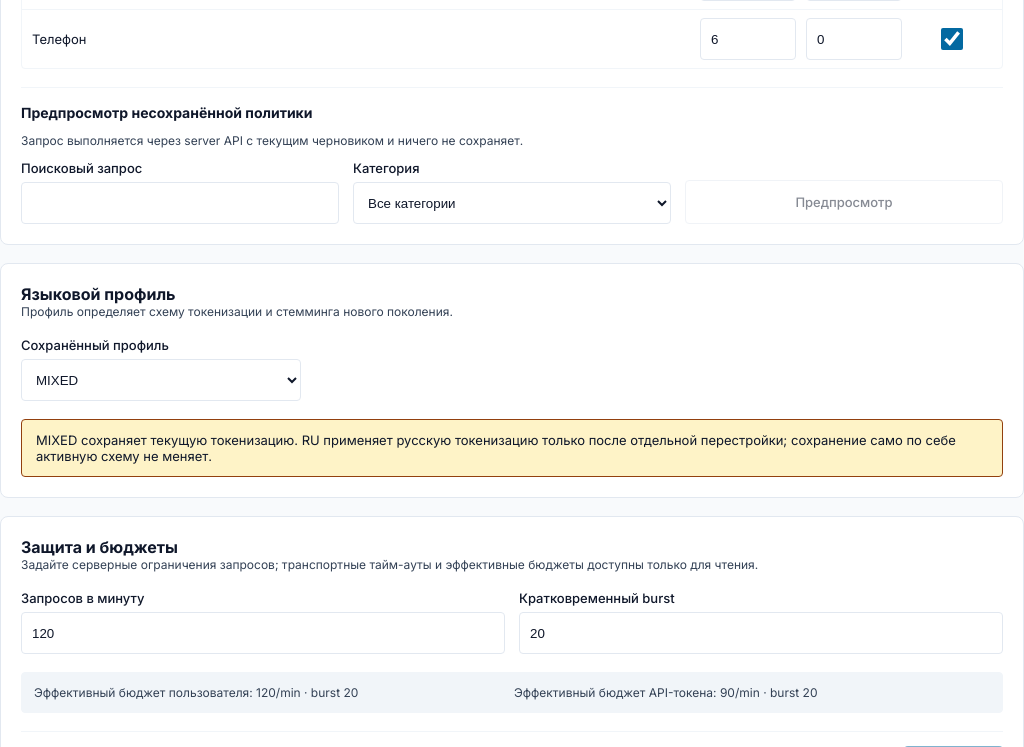
Test: SearchSettingsComponent › uses a successful save as the clean baseline while marking a schema change as rebuild-required
The image size is (1024, 747).
(page scrolled)
Select "RU" in the dropdown with id "search-schema-profile": x=161, y=380 [21, 359, 301, 401]
(page scrolled)
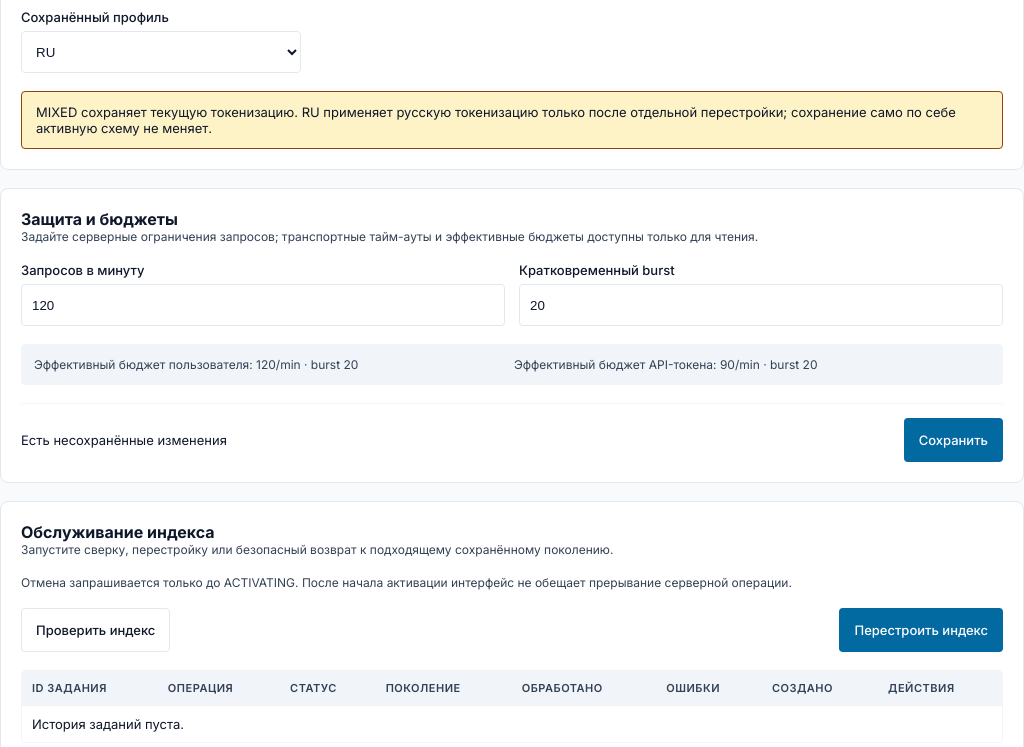
Click the button "Сохранить": x=953, y=440 [904, 418, 1003, 462]
(page scrolled)
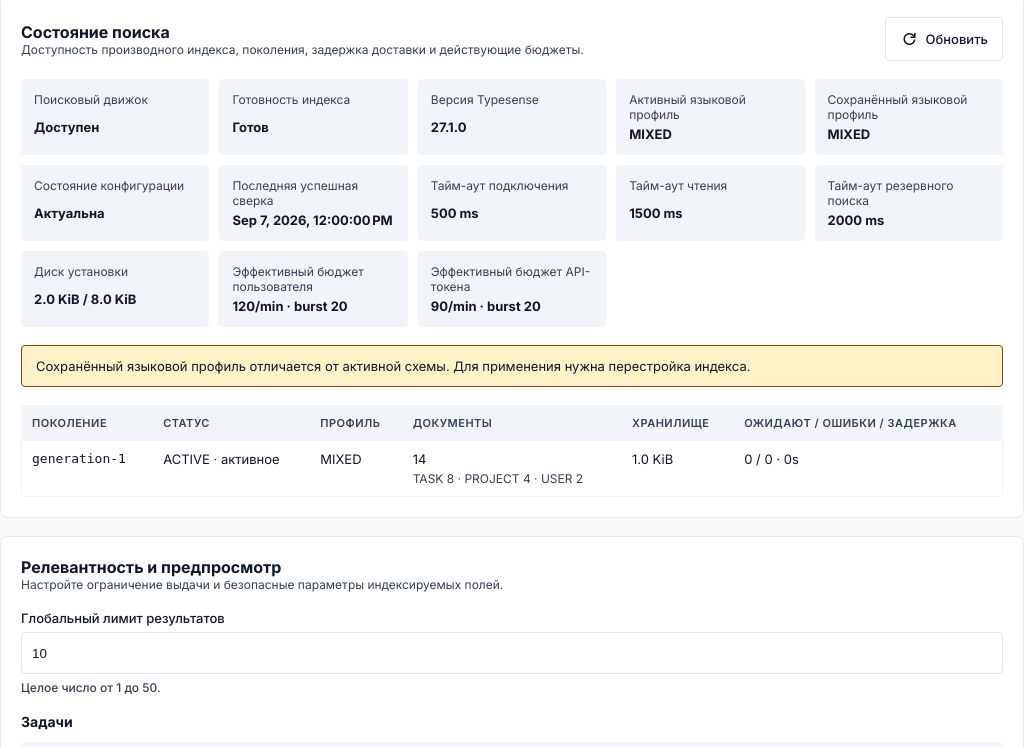
Result: the message is shown at [21, 345, 1003, 387]
